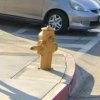a fire hydrant: (38, 25, 59, 73)
